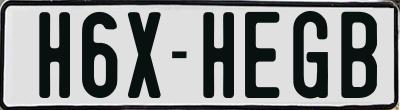6: (79, 10, 119, 102)
B: (338, 11, 380, 97)
E: (245, 9, 284, 96)
G: (291, 8, 329, 99)
H: (202, 12, 234, 99), (39, 12, 70, 101)
X: (126, 12, 164, 102)
